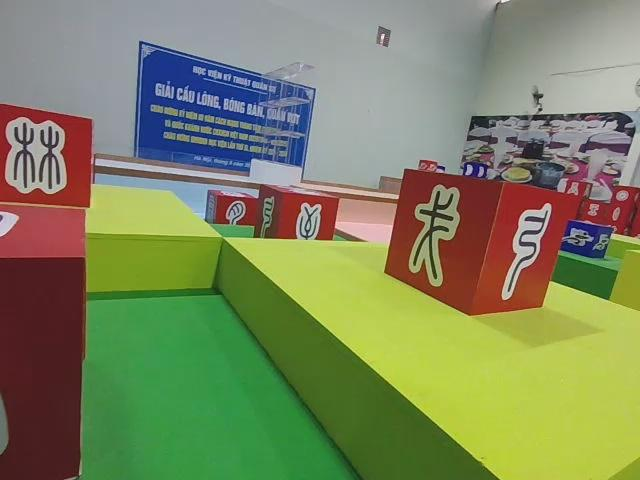R2 Fake: (381, 166, 582, 323), (0, 100, 100, 206), (251, 187, 340, 247), (201, 188, 259, 232)
